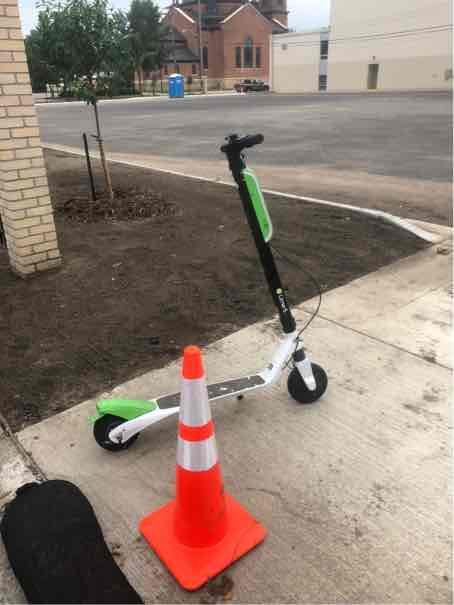scooter: (81, 118, 324, 449)
